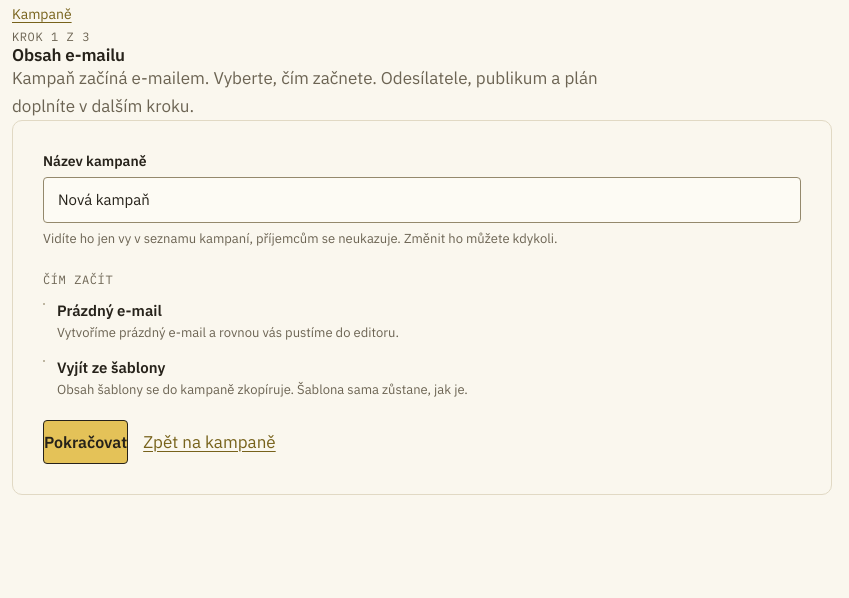
Scenario: krok 1: obsah e-mailu › prázdný název zastaví u obrazovky
The width and height of the screenshot is (849, 598).
Step 1. Clear the field labelled "Název kampaně" → (422, 200), box [43,177,801,223]
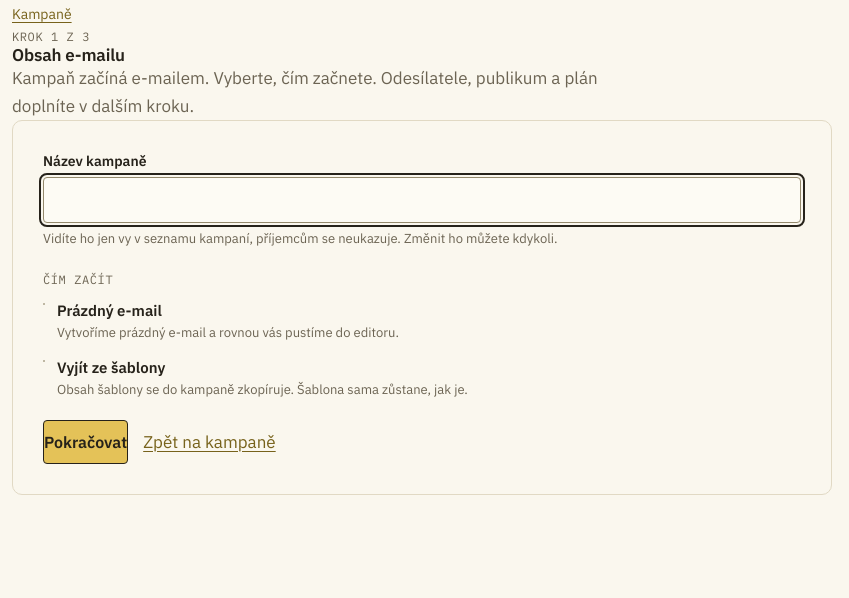
Step 2. Click the button with test id "new-campaign-continue" → (86, 442), box [43,420,128,464]
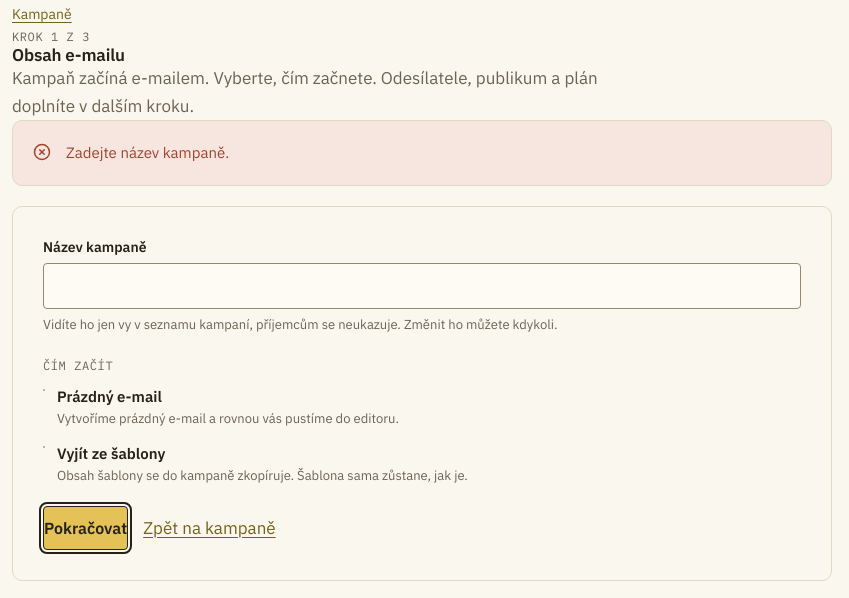
Expected: the message with test id "new-campaign-error" shows "Zadejte název", [66,143,229,162]
